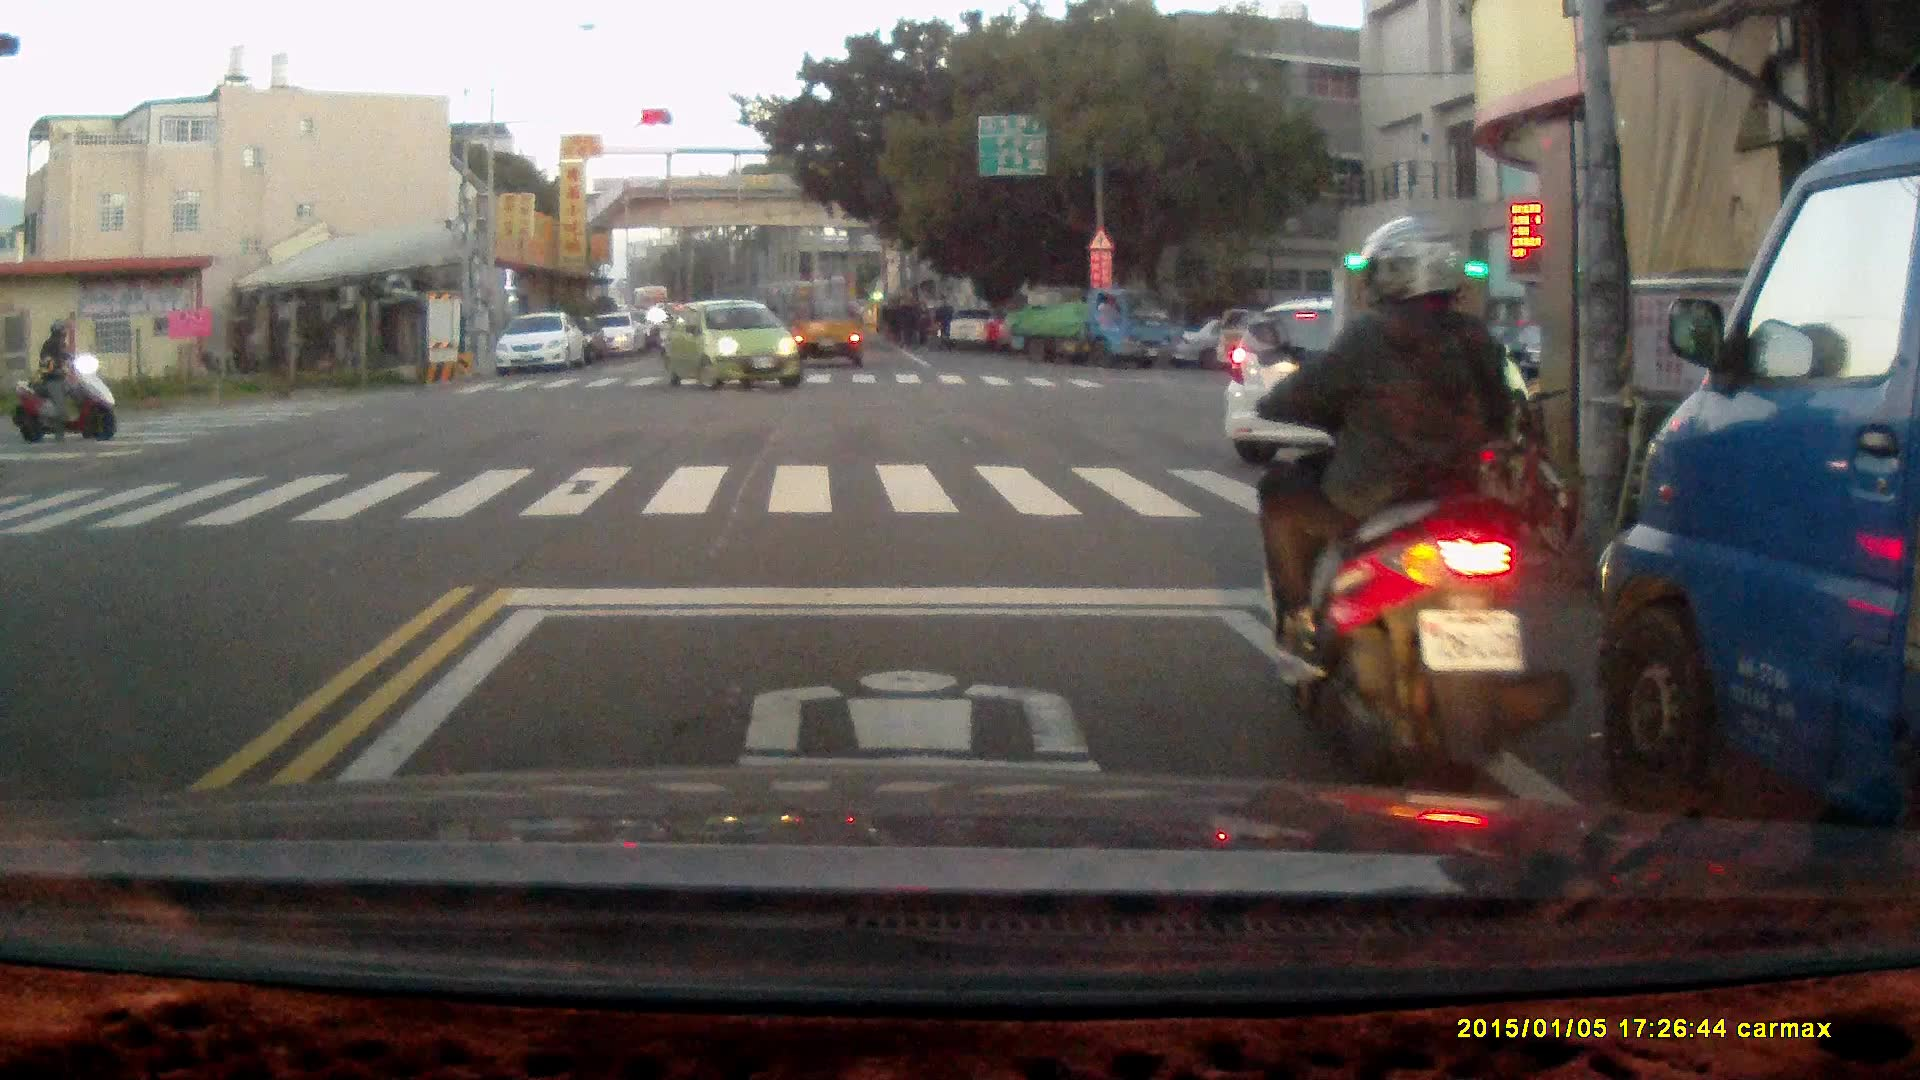rider: (1247, 209, 1572, 802), (10, 317, 119, 440)
vehicle: (1600, 132, 1920, 921), (1214, 294, 1525, 465), (1002, 284, 1176, 367), (667, 295, 799, 395), (784, 268, 867, 372), (496, 313, 587, 377), (592, 311, 642, 360)
